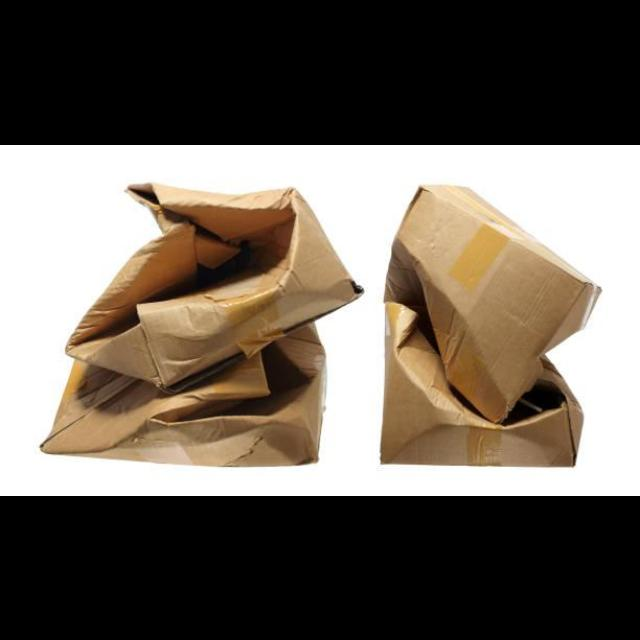papelão: (38, 179, 364, 466), (380, 182, 602, 468)
